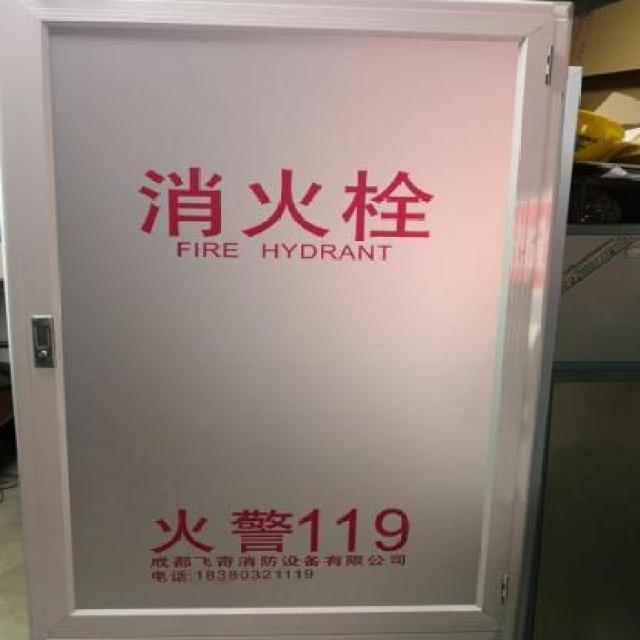firehydrant: (1, 0, 578, 640)
